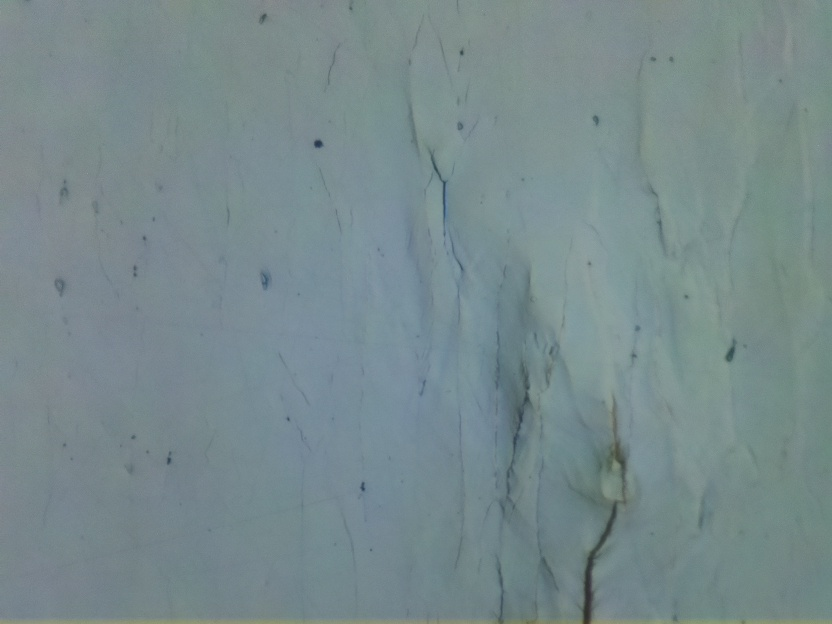crack: (577, 499, 622, 624)
